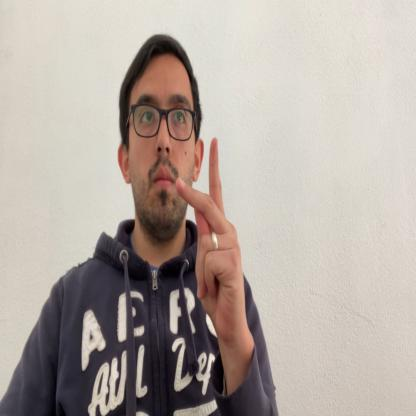P: (175, 137, 244, 345)
